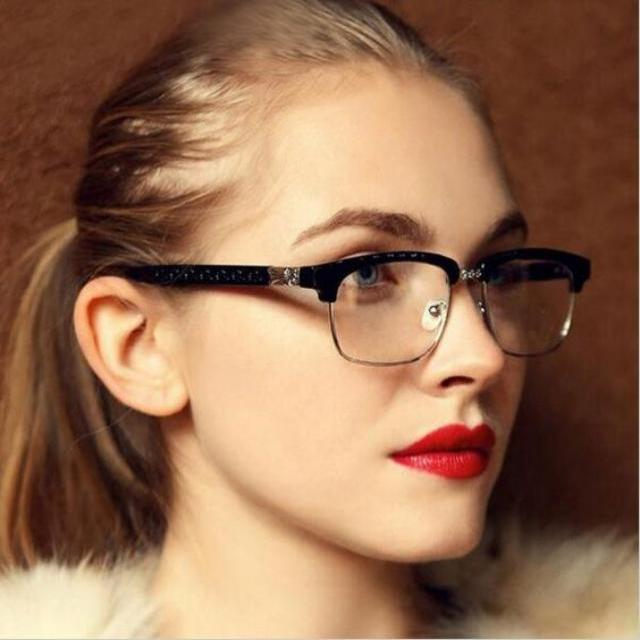glasses: (132, 247, 594, 367)
